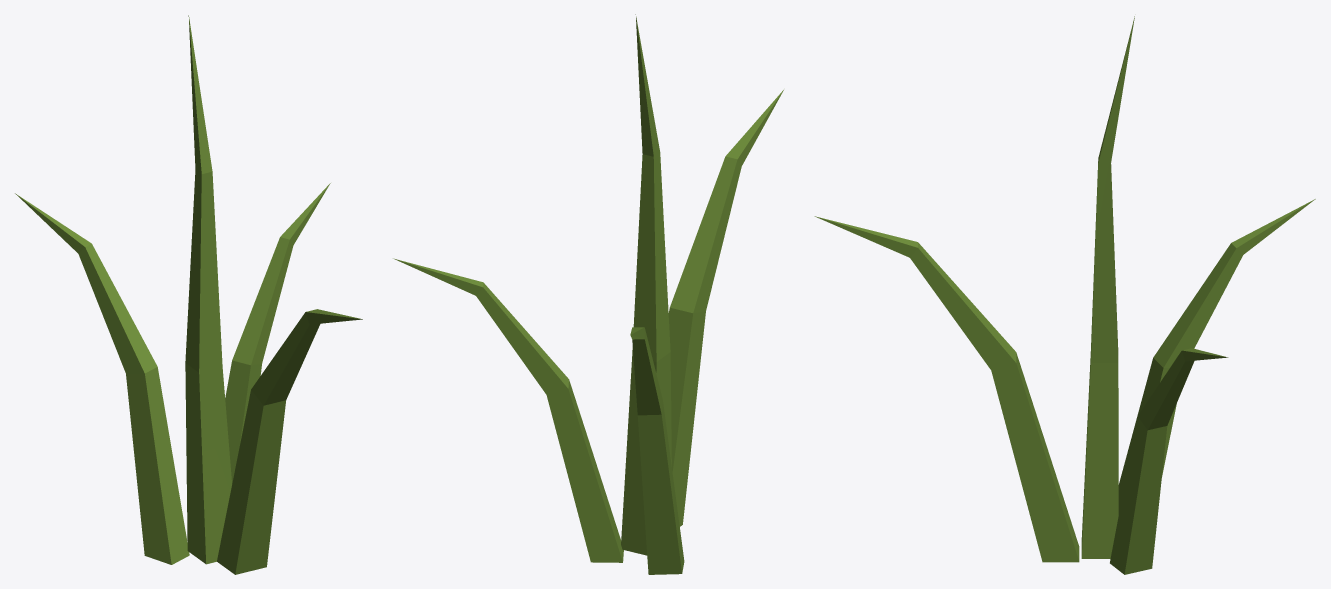
File: Grass_13.fbx
3 renders of one model, left to right at view 1: azimuth 30°, elevation 25°; view 2: azimuth 150°, elevation 25°; view 3: azimuth 270°, elevation 25°, orthographic. The views are drawn at different scales.
Visible parts, largest first — view 1: Grass_13; view 2: Grass_13; view 3: Grass_13.
Part boxes in pixels (x1,y1,x2,y2): Grass_13: [15, 15, 362, 574]; Grass_13: [393, 14, 783, 574]; Grass_13: [814, 16, 1315, 574].
Bounding box in the file's own units: 27.89 × 52.04 × 44.02.
